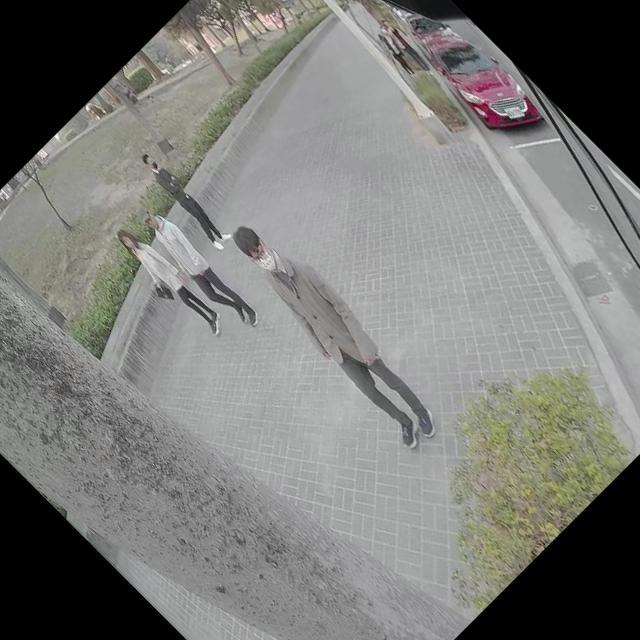person: (214, 208, 461, 455), (122, 196, 262, 336), (104, 219, 224, 339), (134, 150, 230, 246), (374, 17, 434, 78), (370, 27, 420, 76)
